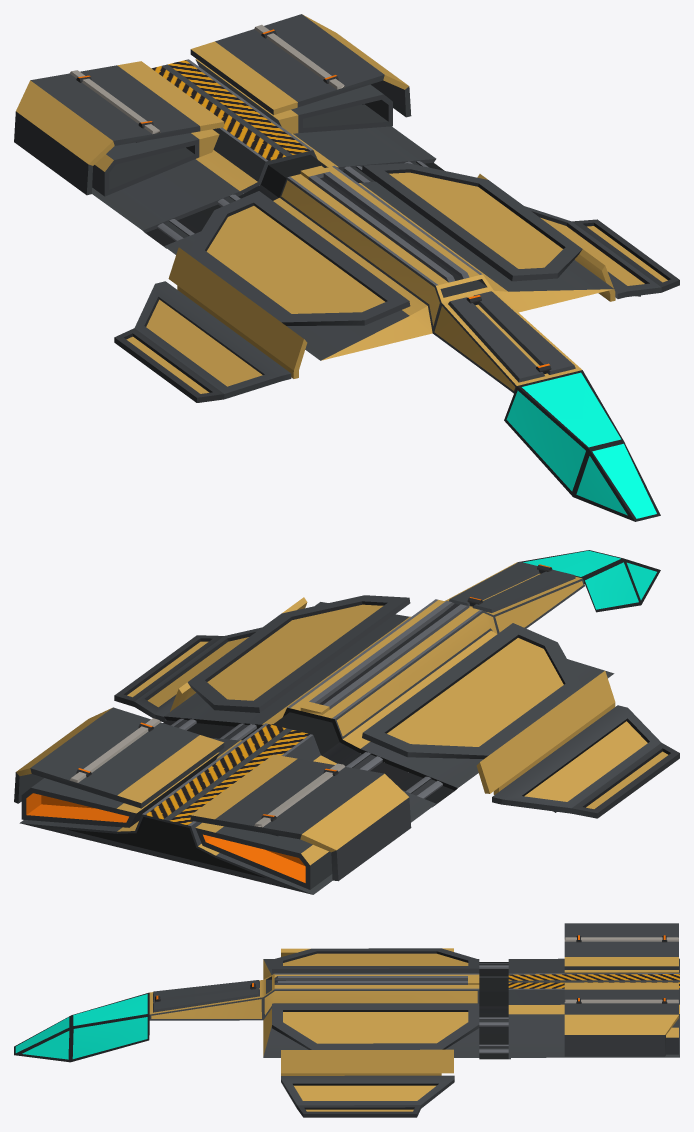
The model's file is ship_01_roof.FBX.
3 views of the same model, one above another, from view 1: azimuth 30°, elevation 25°; view 2: azimuth 150°, elevation 25°; view 3: azimuth 270°, elevation 25° (orthographic). The views are drawn at different scales.
Parts seen in each view (by area): view 1: ship_01_roof; view 2: ship_01_roof; view 3: ship_01_roof.
Part boxes in pixels (x1=…): ship_01_roof: x1=14, y1=14, x2=679, y2=521; ship_01_roof: x1=14, y1=550, x2=679, y2=894; ship_01_roof: x1=14, y1=923, x2=679, y2=1117.
Bounding box in the file's own units: 23.25 × 5.51 × 40.25.
Materials: 1 (1 with a texture image).
